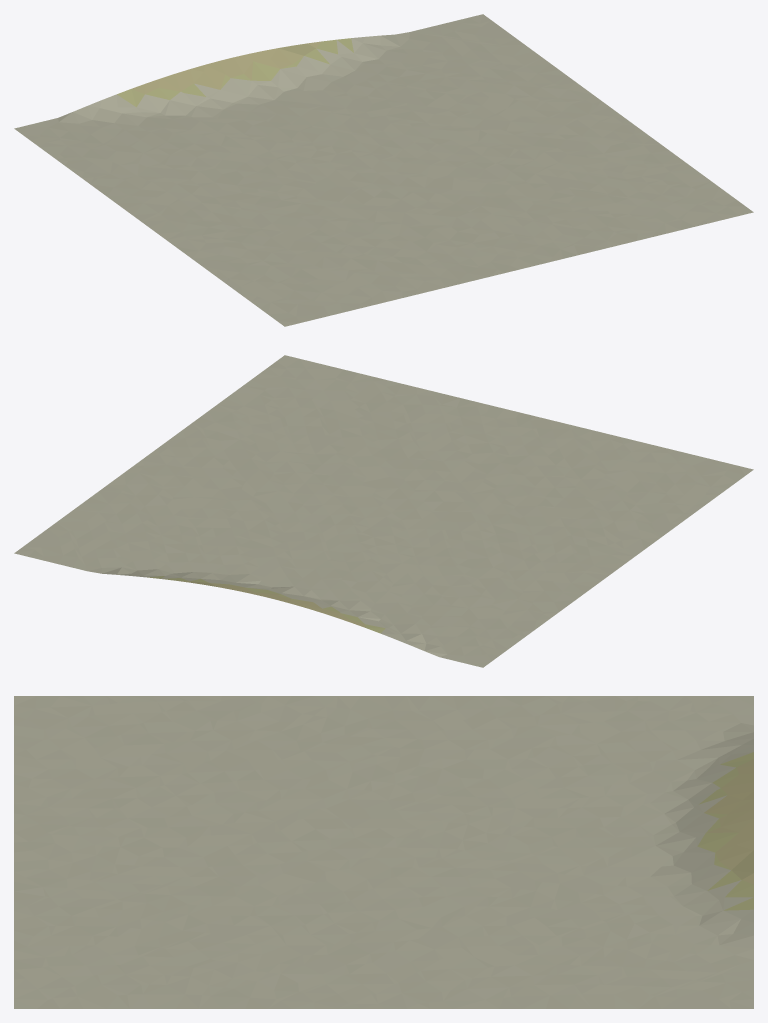
Rendered from Ground_-3_2.glb.
3 renders of one model, top to bottom at view 1: azimuth 30°, elevation 25°; view 2: azimuth 150°, elevation 25°; view 3: azimuth 270°, elevation 25°, orthographic. The views are drawn at different scales.
Parts seen in each view (by area): view 1: Ground_-3_2; view 2: Ground_-3_2; view 3: Ground_-3_2.
Part boxes in pixels (x1,y1,x2,y2): Ground_-3_2: (14,14,753,326); Ground_-3_2: (14,355,753,667); Ground_-3_2: (14,696,753,1008).
Size of the model in its own units: 768 by 27.59 by 768.
